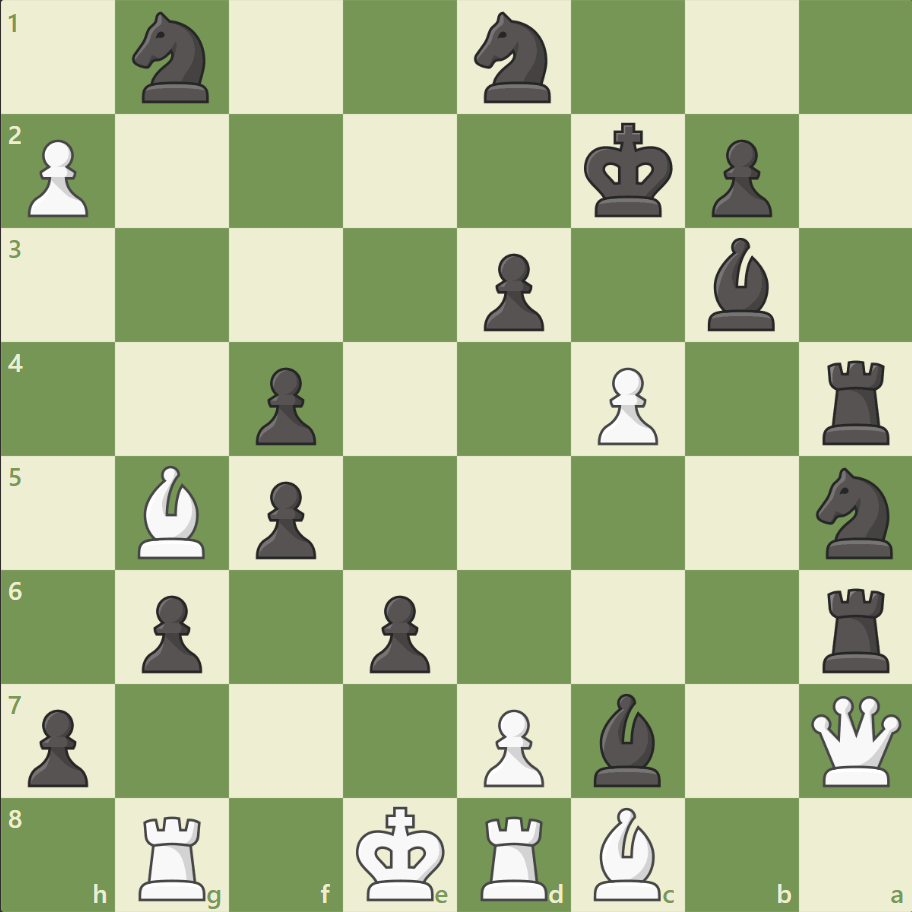B: (585, 801, 669, 904), (131, 460, 215, 563)
K: (351, 798, 451, 906)
P: (474, 700, 549, 791), (20, 132, 95, 223), (588, 359, 662, 450)
Q: (805, 690, 904, 789)
R: (473, 806, 556, 904), (133, 806, 215, 904)
b: (585, 687, 669, 790), (698, 233, 782, 336)
k: (579, 117, 679, 225)
n: (124, 7, 222, 110), (806, 461, 903, 564), (465, 7, 562, 110)
p: (20, 700, 95, 791), (133, 586, 208, 677), (247, 473, 322, 564), (247, 359, 322, 450), (474, 246, 549, 337), (701, 132, 776, 223), (361, 586, 435, 677)
r: (814, 579, 897, 676), (814, 352, 897, 449)
